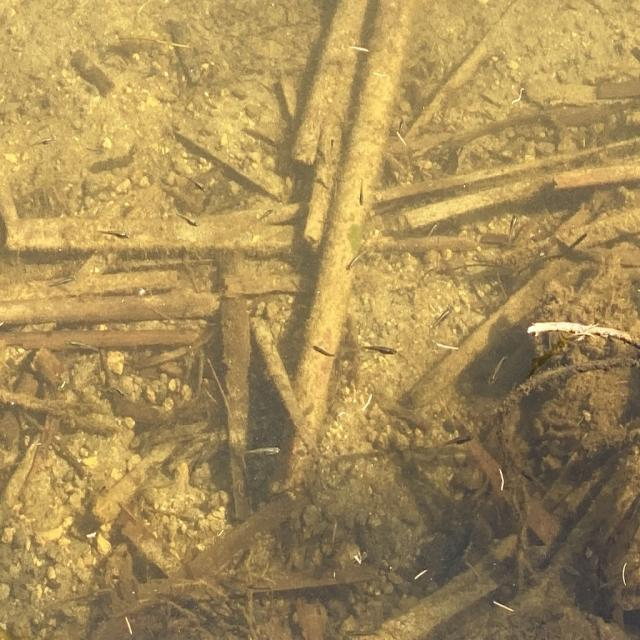Sivrisinek Baligi: (67, 336, 100, 356), (242, 443, 286, 457), (444, 432, 474, 452), (171, 208, 204, 226), (488, 356, 509, 384), (345, 250, 368, 275), (50, 272, 77, 290), (524, 471, 546, 493), (363, 342, 397, 356), (507, 210, 518, 251), (430, 308, 449, 330), (103, 228, 130, 242), (188, 176, 208, 194), (310, 343, 334, 358), (356, 179, 368, 207), (255, 207, 273, 224)
